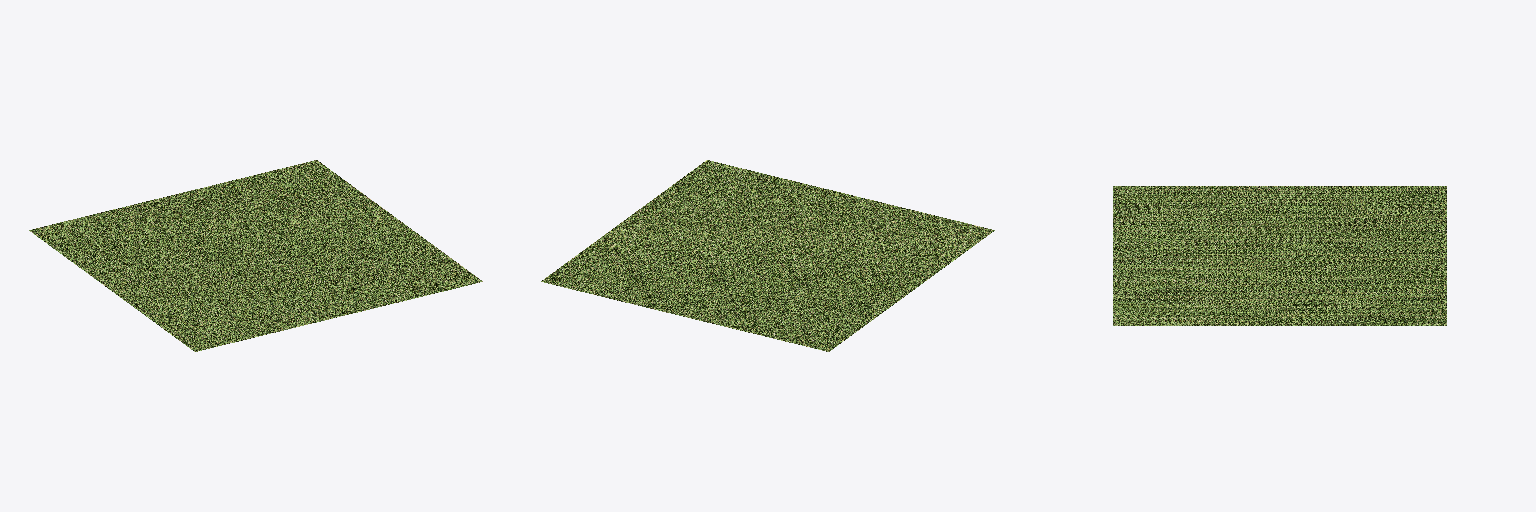
The picture shows the model from 3 angles: view 1: azimuth 30°, elevation 25°; view 2: azimuth 150°, elevation 25°; view 3: azimuth 270°, elevation 25°; orthographic projection.
Visible parts, largest first — view 1: Plane; view 2: Plane; view 3: Plane.
Part boxes in pixels (x1,y1,x2,y2): Plane: (29,160,482,351); Plane: (541,160,994,351); Plane: (1113,186,1446,325).
Size of the model in its own units: 20000 by 0 by 20000.
Materials: 1 (1 with a texture image).